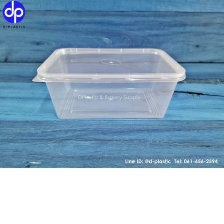plastic_box: (26, 39, 191, 124)
